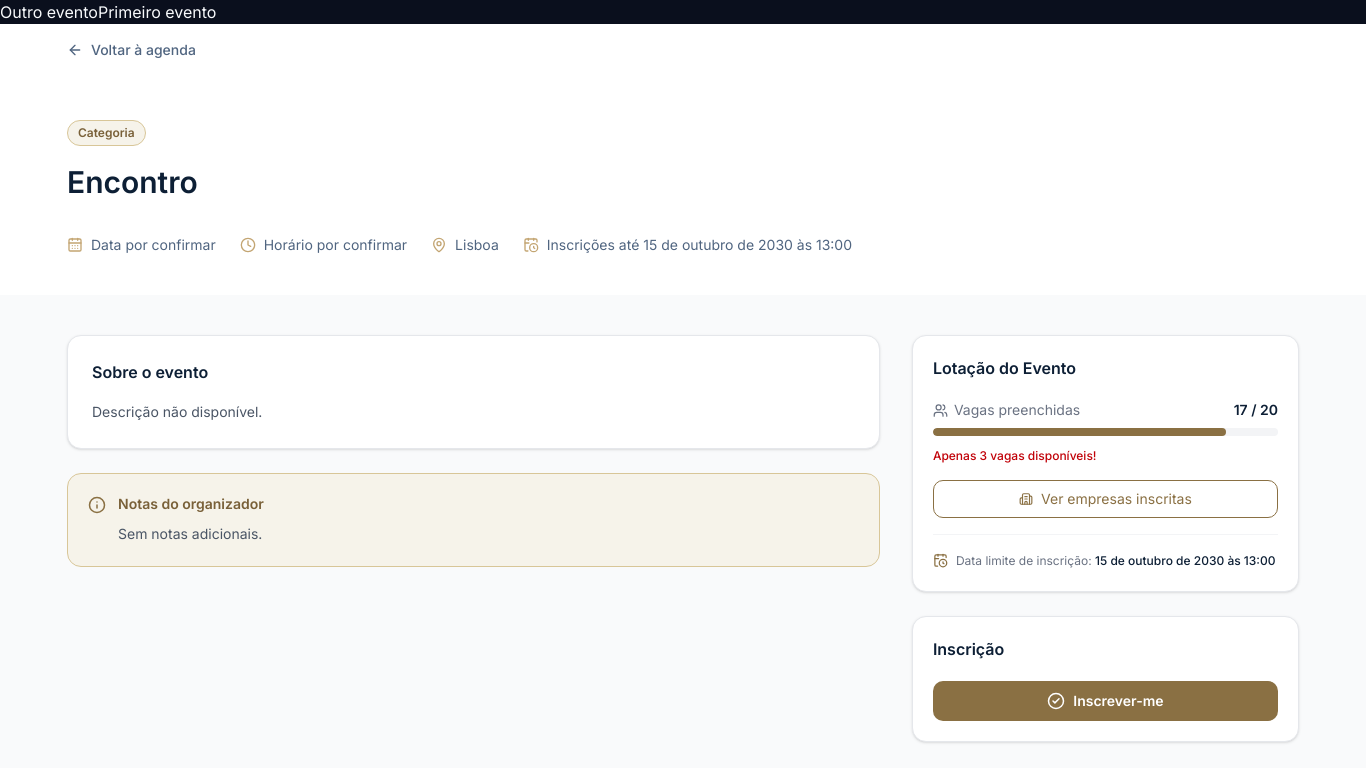
Test: Inscrição no detalhe do evento › X fecha o resumo e devolve foco à ação de inscrição
Click the button "Inscrever-me".
click(1105, 701)  # box [933, 681, 1278, 721]
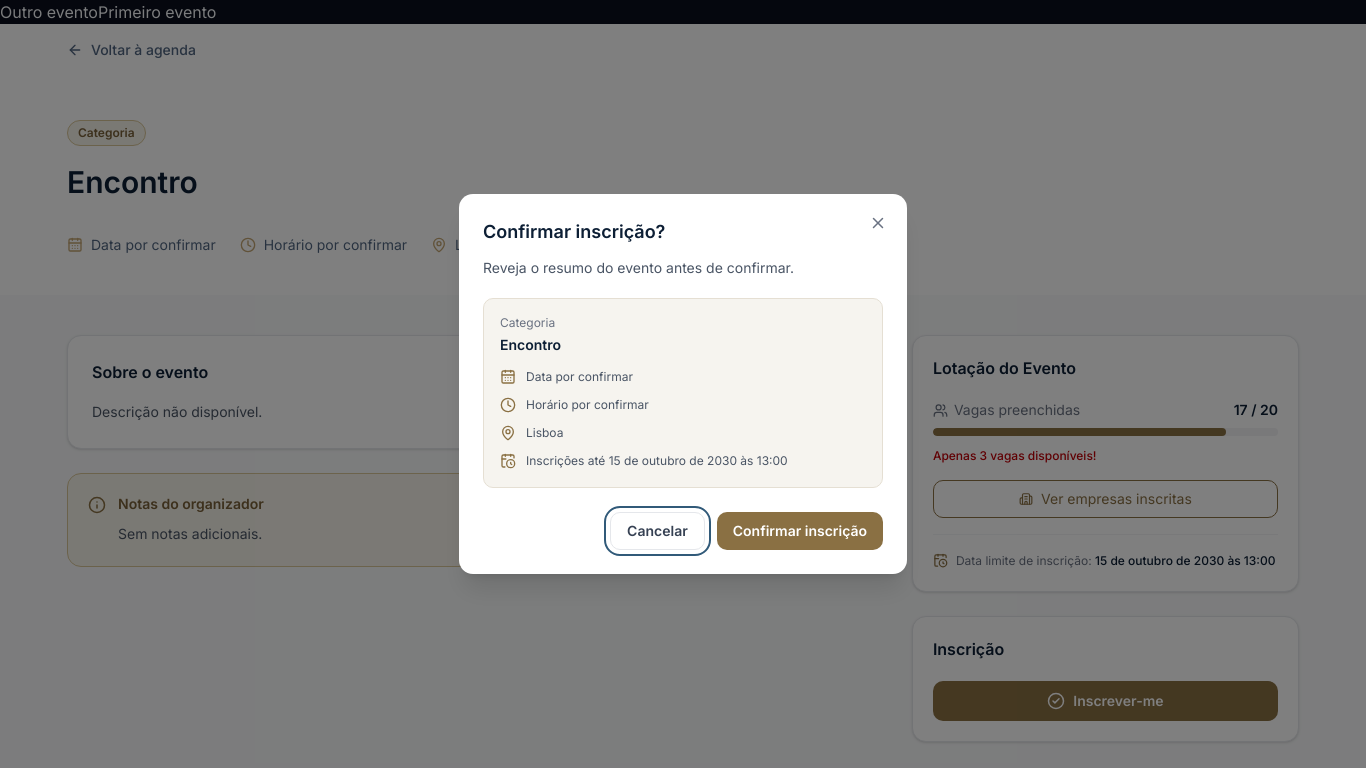
Click the button named "Fechar".
click(878, 223)  # box [865, 210, 891, 236]
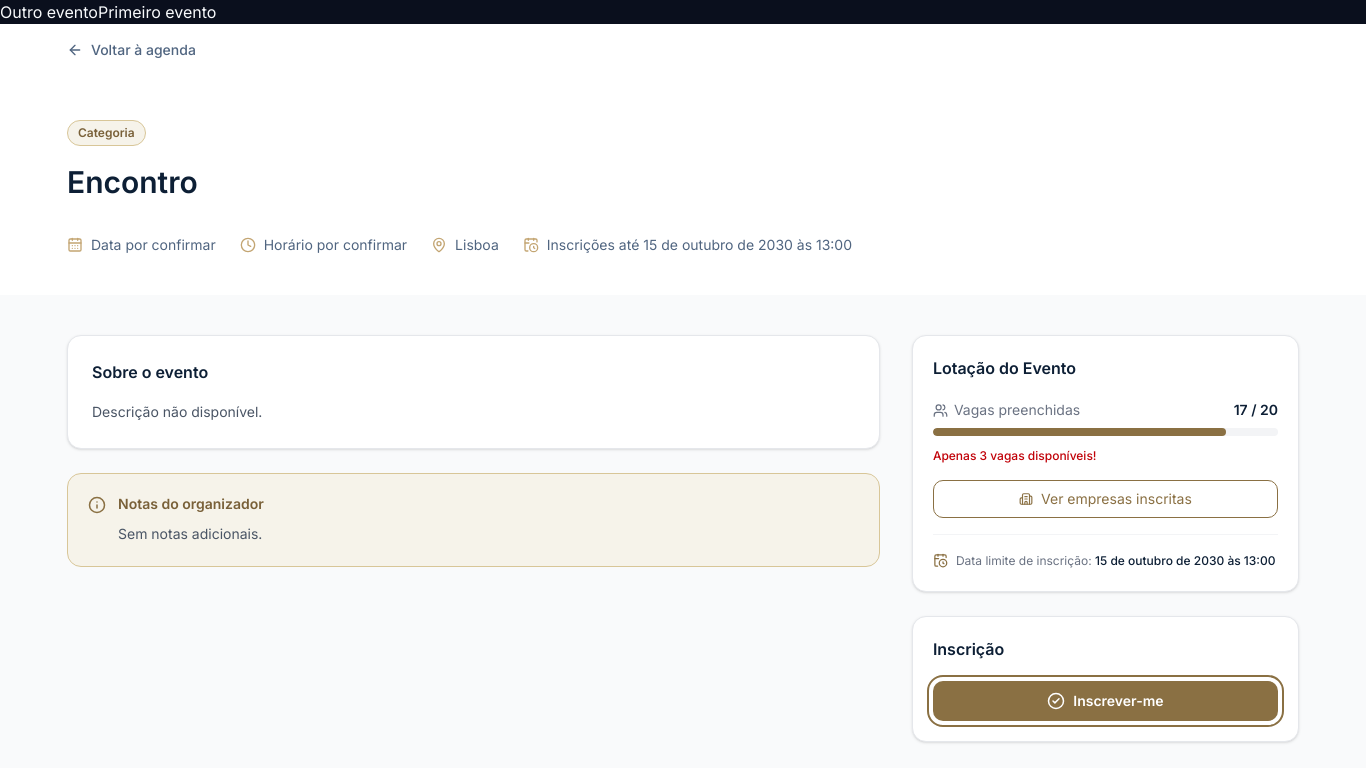
Expected: the dialog is gone
